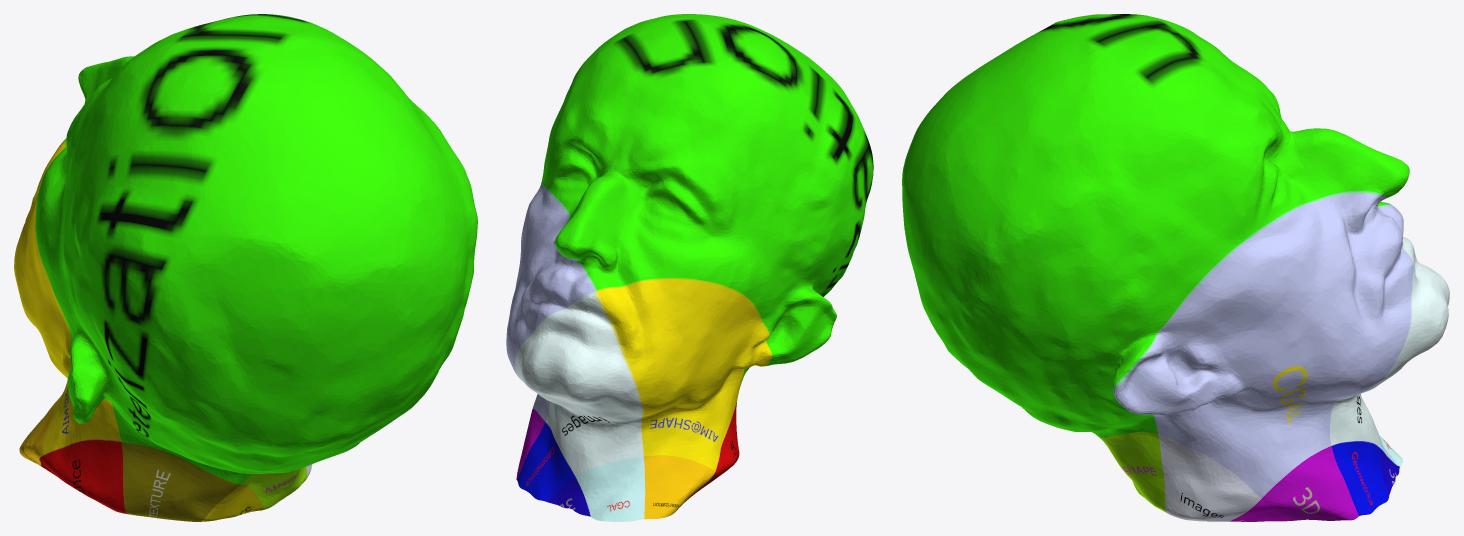
The model's file is test_maxplanck_floater_circle.obj.
3 views of the same model, side by side, from view 1: azimuth 30°, elevation 25°; view 2: azimuth 150°, elevation 25°; view 3: azimuth 270°, elevation 25° (orthographic). The views are drawn at different scales.
Bounding box in the file's own units: 1.92 × 2.46 × 2.73.
Materials: 1 (1 with a texture image).
